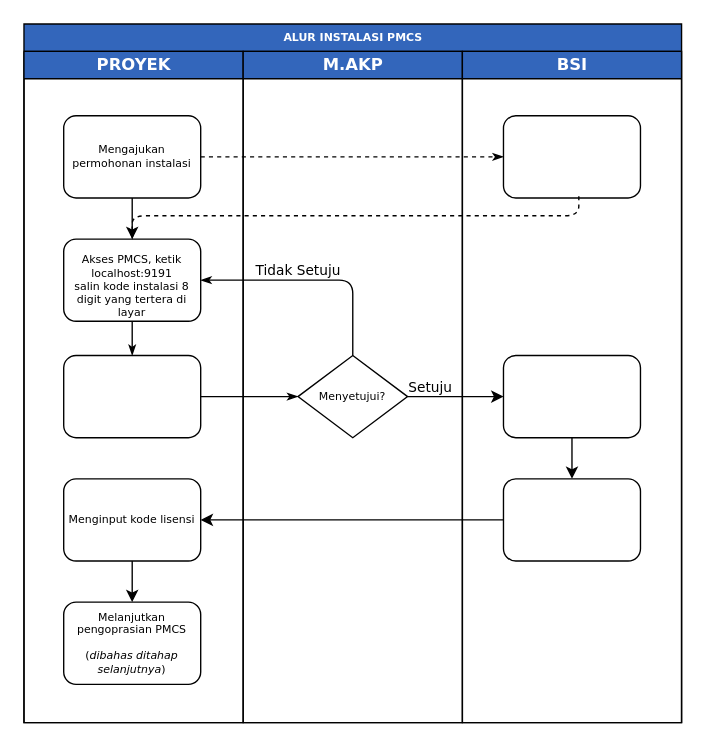
The diagram is 706 pixels wide and 747 high, and some of its shapes have lost their labels. Here are the shapes that lost their labels. From the top down, the centre of each, then its label:
pixel 571 156: Membantu proses instal PMCS (dapat dilakukan tanpa tim BSI)
pixel 131 396: Kirim surat/email permohonan kode lisensi ditujukan ke M.AKT dan di CC ke BSI
pixel 571 396: Memproses pembuatan kode lisensi
pixel 571 519: Mengirim email kode lisensi
